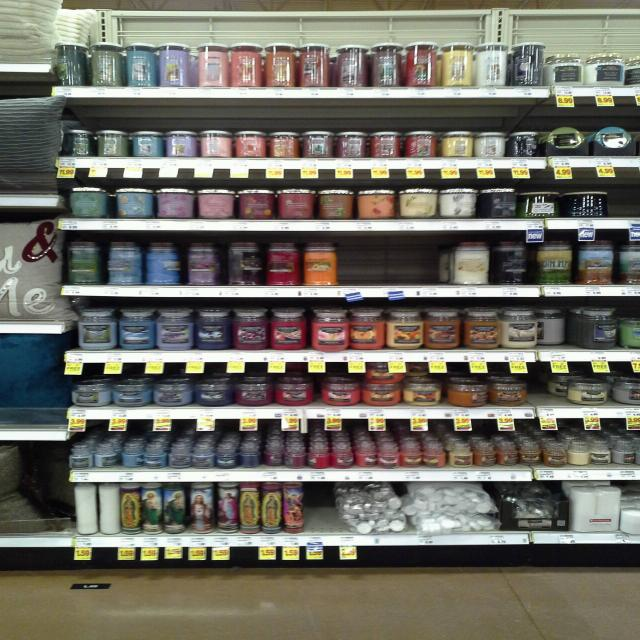empty: (333, 236, 453, 297), (521, 357, 571, 414), (301, 477, 340, 538), (599, 171, 640, 226)
